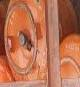cylinder: (1, 1, 80, 87)
